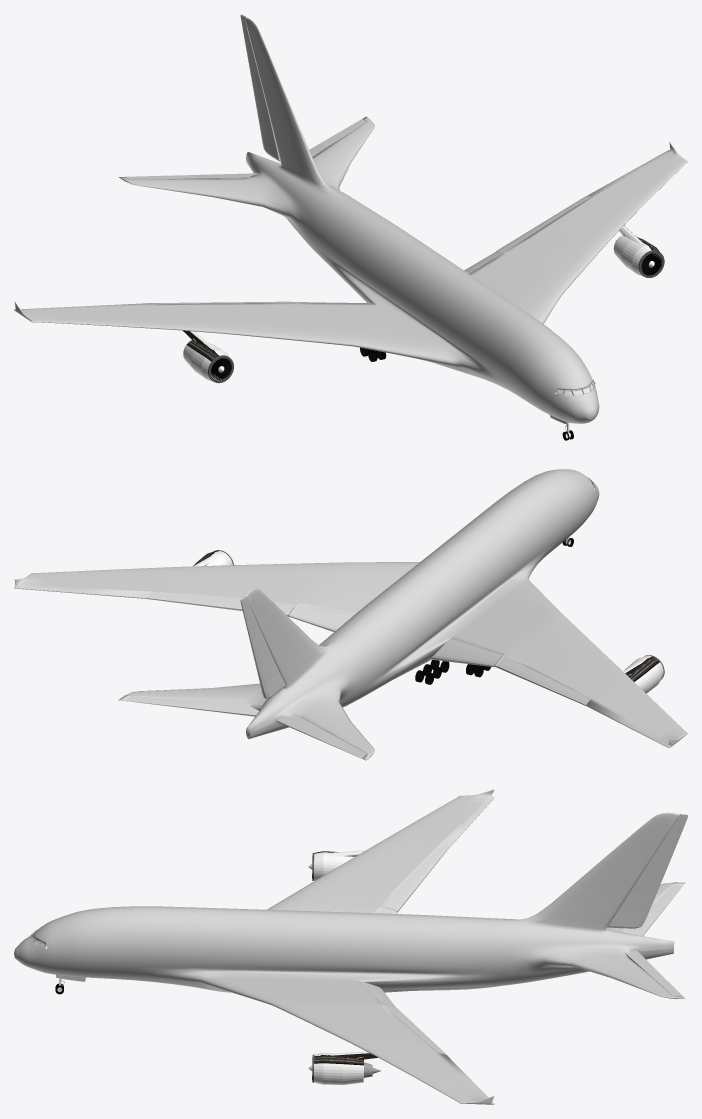
File: a380_air_plane.glb
3 renders of one model, top to bottom at view 1: azimuth 30°, elevation 25°; view 2: azimuth 150°, elevation 25°; view 3: azimuth 270°, elevation 25°, orthographic. The views are drawn at different scales.
Parts seen in each view (by area): view 1: main plane_23, engine out_10, main plane.005_15, main plane.004_14, engine blade out_9; view 2: main plane_23, main plane.004_14, main plane.001_11, main plane.005_15, engine out_10, main plane.002_12, main plane.003_13; view 3: main plane_23, engine out_10, main plane.005_15, main plane.004_14, main plane.002_12, main plane.003_13.
Boxes of the visible parts, x1=… form: main plane_23: x1=14, y1=17, x2=687, y2=423; engine out_10: x1=183, y1=225, x2=664, y2=383; main plane.005_15: x1=240, y1=14, x2=280, y2=161; main plane.004_14: x1=125, y1=119, x2=366, y2=179; engine blade out_9: x1=211, y1=253, x2=661, y2=380; main plane_23: x1=14, y1=469, x2=687, y2=760; main plane.004_14: x1=125, y1=696, x2=366, y2=758; main plane.001_11: x1=291, y1=605, x2=502, y2=667; main plane.005_15: x1=240, y1=596, x2=285, y2=698; engine out_10: x1=193, y1=550, x2=664, y2=693; main plane.002_12: x1=213, y1=598, x2=549, y2=687; main plane.003_13: x1=146, y1=592, x2=590, y2=705; main plane_23: x1=14, y1=789, x2=685, y2=1104; engine out_10: x1=312, y1=850, x2=381, y2=1084; main plane.005_15: x1=607, y1=814, x2=687, y2=928; main plane.004_14: x1=625, y1=885, x2=682, y2=996; main plane.002_12: x1=382, y1=875, x2=423, y2=1032; main plane.003_13: x1=412, y1=847, x2=447, y2=1054.
Bounding box in the file's own units: 4.34 × 1.26 × 4.03.
Materials: 11 (1 with a texture image).
